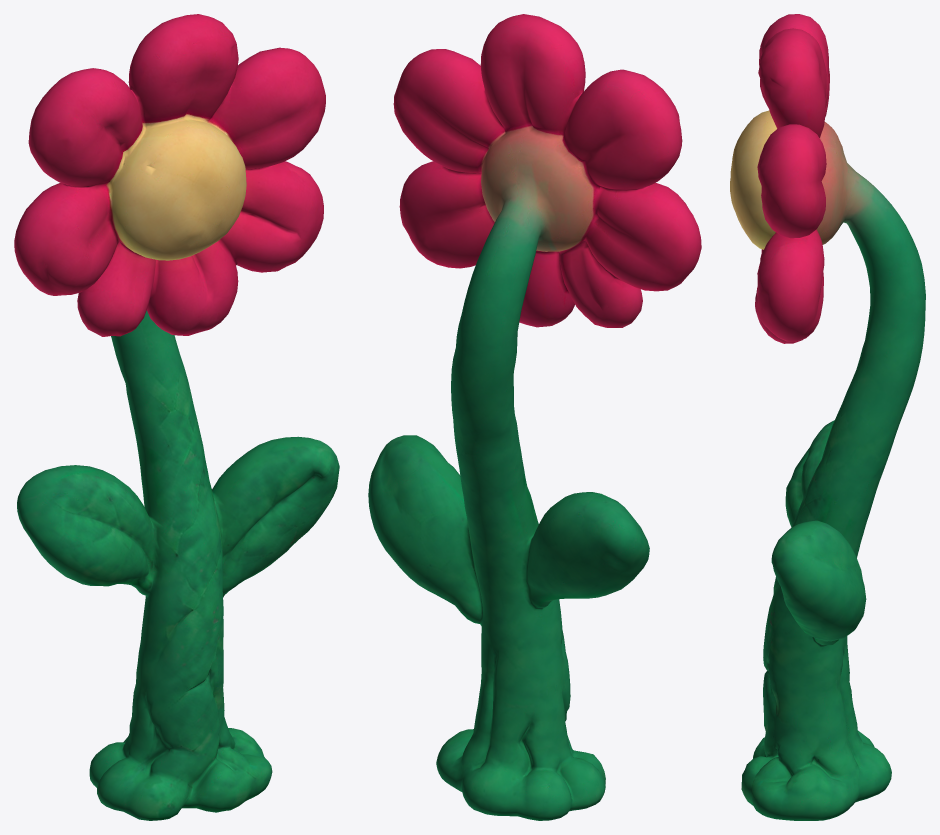
Rendered from dream-flower.glb.
3 renders of one model, left to right at view 1: azimuth 30°, elevation 25°; view 2: azimuth 150°, elevation 25°; view 3: azimuth 270°, elevation 25°, orthographic. The views are drawn at different scales.
Visible parts, largest first — view 1: tripo_node_85e7fe8a-33bc-4ea0-ab1f-2e316dba136e; view 2: tripo_node_85e7fe8a-33bc-4ea0-ab1f-2e316dba136e; view 3: tripo_node_85e7fe8a-33bc-4ea0-ab1f-2e316dba136e.
Boxes of the visible parts, left/top/right/bottom form: tripo_node_85e7fe8a-33bc-4ea0-ab1f-2e316dba136e: left=14, top=14, right=339, bottom=820; tripo_node_85e7fe8a-33bc-4ea0-ab1f-2e316dba136e: left=368, top=14, right=701, bottom=820; tripo_node_85e7fe8a-33bc-4ea0-ab1f-2e316dba136e: left=730, top=14, right=925, bottom=820.
Bounding box in the file's own units: 0.4302 × 0.9995 × 0.2339.
Materials: 1 (1 with a texture image).
